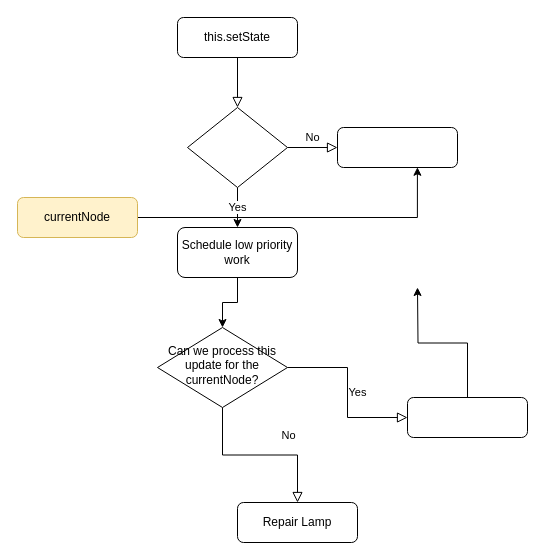
Some shapes in this 545 by 560 pixel diagram are drawn without their labels. The shapes that lost their labels are listed below. From the top down, each one's centre as x and y in pixels, then its label:
(x=237, y=147): is low priority?
(x=397, y=147): Process immediately
(x=467, y=417): Process update and set new currentnode
